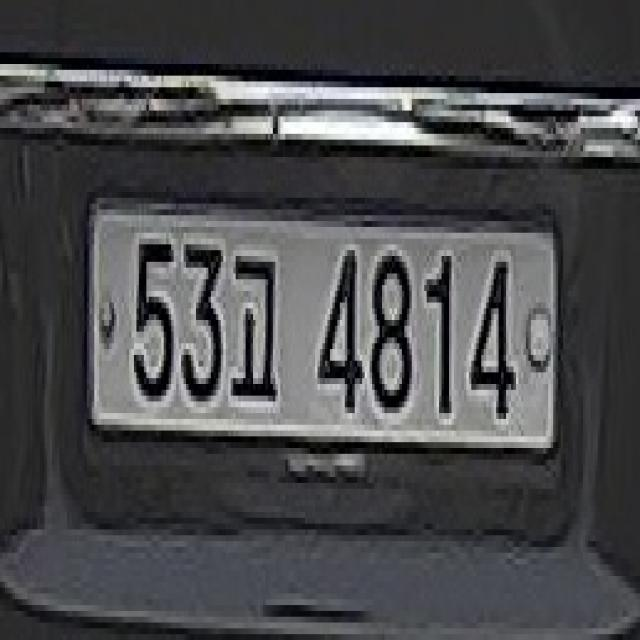1: (419, 232, 469, 430)
3: (181, 227, 228, 401)
4: (462, 244, 518, 425), (318, 238, 367, 419)
5: (119, 227, 181, 401)
8: (367, 244, 427, 419)
go: (228, 239, 288, 407)
license_plate: (82, 174, 565, 488)
